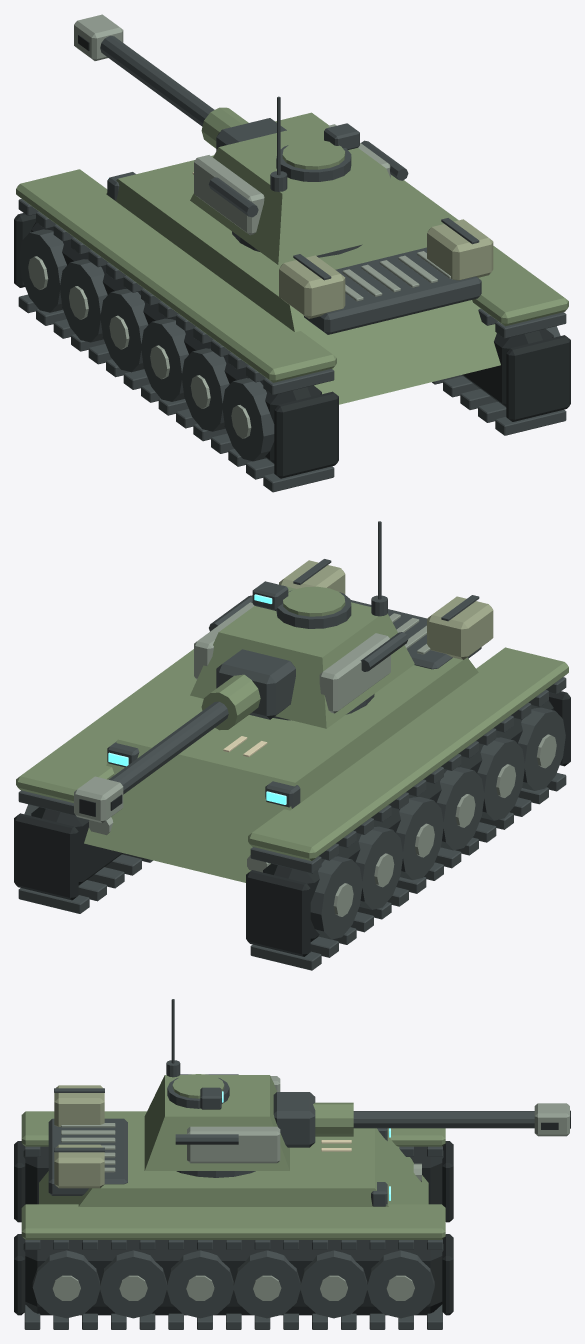
The model's file is tank_scout_mk2.glb.
The picture shows the model from 3 angles, top to bottom: view 1: azimuth 30°, elevation 25°; view 2: azimuth 150°, elevation 25°; view 3: azimuth 270°, elevation 25°; orthographic projection. The views are drawn at different scales.
Visible parts, largest first — view 1: tank_scout_mk2_TankPaint, tank_scout_mk2_RunningGear, tank_scout_mk2_TankPaint.001, tank_scout_mk2_TankTracks, tank_scout_mk2_RunningGear.001, tank_scout_mk2_Canvas, tank_scout_mk2_ArmorEdges, tank_scout_mk2_ArmorEdges.001; view 2: tank_scout_mk2_TankPaint, tank_scout_mk2_RunningGear, tank_scout_mk2_TankTracks, tank_scout_mk2_TankPaint.001, tank_scout_mk2_RunningGear.001, tank_scout_mk2_ArmorEdges.001, tank_scout_mk2_Canvas, tank_scout_mk2_ArmorEdges; view 3: tank_scout_mk2_TankPaint, tank_scout_mk2_RunningGear, tank_scout_mk2_TankTracks, tank_scout_mk2_TankPaint.001, tank_scout_mk2_RunningGear.001, tank_scout_mk2_ArmorEdges, tank_scout_mk2_ArmorEdges.001, tank_scout_mk2_Canvas.
Boxes of the visible parts, x1,y1,x2,y2 form: tank_scout_mk2_TankPaint: [16, 112, 568, 404]; tank_scout_mk2_RunningGear: [18, 172, 566, 492]; tank_scout_mk2_TankPaint.001: [190, 107, 414, 264]; tank_scout_mk2_TankTracks: [14, 213, 570, 478]; tank_scout_mk2_RunningGear.001: [100, 36, 408, 257]; tank_scout_mk2_Canvas: [279, 219, 493, 318]; tank_scout_mk2_ArmorEdges: [28, 251, 450, 438]; tank_scout_mk2_ArmorEdges.001: [74, 14, 390, 235]; tank_scout_mk2_TankPaint: [16, 647, 568, 882]; tank_scout_mk2_RunningGear: [18, 559, 566, 970]; tank_scout_mk2_TankTracks: [14, 691, 570, 956]; tank_scout_mk2_TankPaint.001: [190, 586, 414, 730]; tank_scout_mk2_RunningGear.001: [109, 521, 408, 794]; tank_scout_mk2_ArmorEdges.001: [74, 602, 390, 822]; tank_scout_mk2_Canvas: [279, 560, 493, 659]; tank_scout_mk2_ArmorEdges: [89, 613, 556, 916]; tank_scout_mk2_TankPaint: [21, 1111, 445, 1239]; tank_scout_mk2_RunningGear: [24, 1088, 442, 1329]; tank_scout_mk2_TankTracks: [14, 1141, 453, 1315]; tank_scout_mk2_TankPaint.001: [144, 1074, 353, 1170]; tank_scout_mk2_RunningGear.001: [166, 999, 534, 1177]; tank_scout_mk2_ArmorEdges: [52, 1123, 421, 1300]; tank_scout_mk2_ArmorEdges.001: [187, 1076, 569, 1163]; tank_scout_mk2_Canvas: [54, 1085, 104, 1188].
Size of the model in its own units: 2.32 by 2.2 by 4.42.
